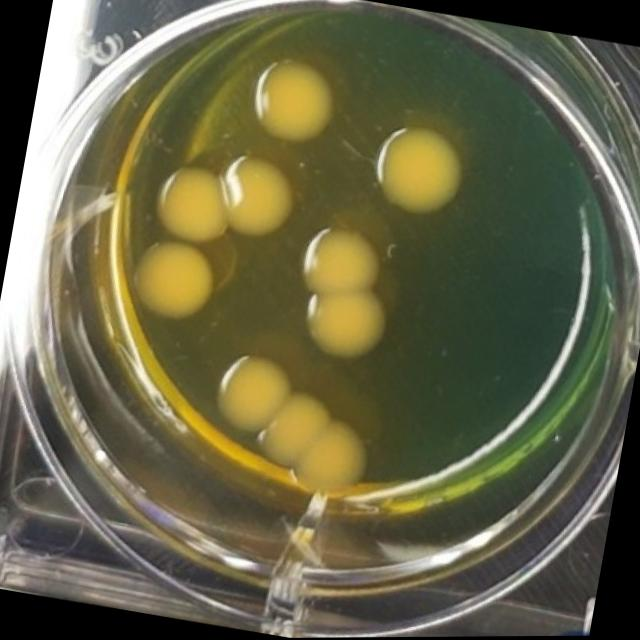vibrio: (248, 387, 379, 508), (355, 114, 470, 228), (240, 47, 347, 158), (120, 225, 222, 329), (294, 274, 394, 371), (206, 147, 302, 246), (144, 158, 238, 254), (205, 346, 297, 437), (298, 216, 390, 297)
